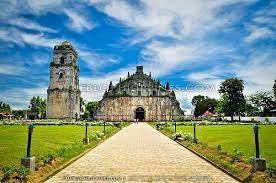paoay_church_paoay_ilocos_norte: (43, 36, 187, 127)
